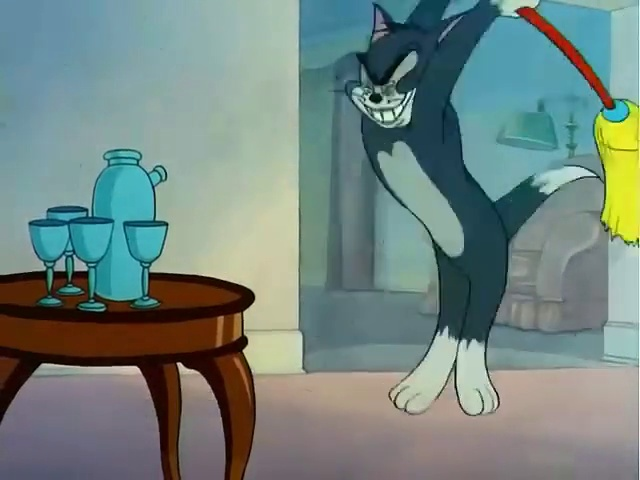tom: (326, 3, 578, 429)
